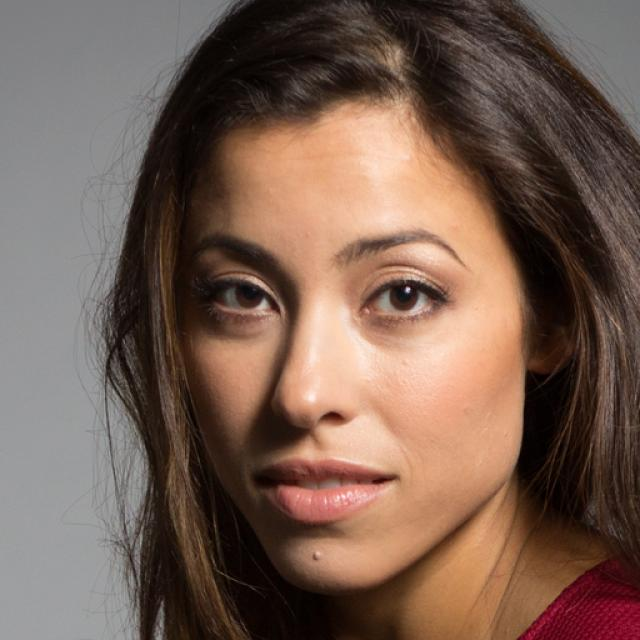Acne: (305, 547, 324, 564)
